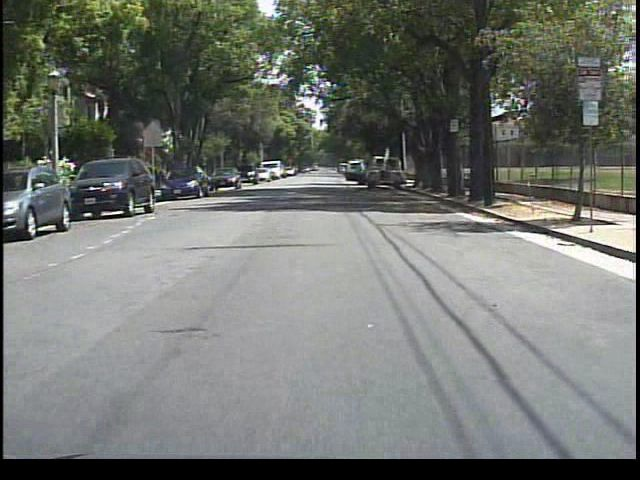person: (352, 161, 367, 187)
